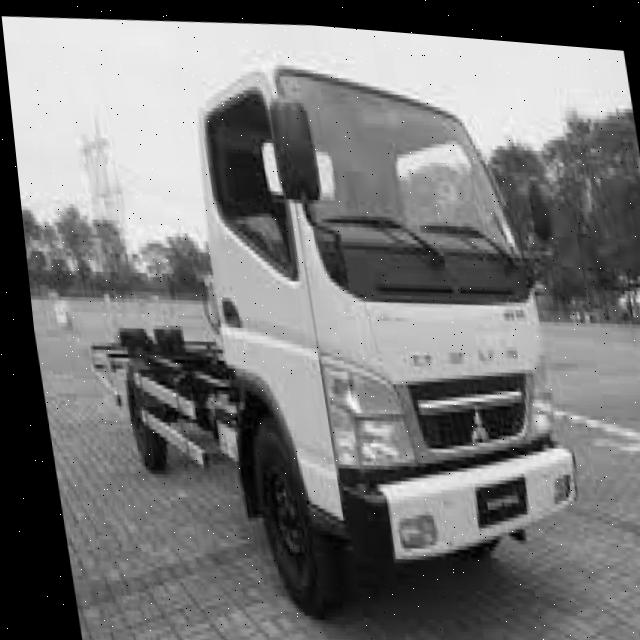truck: (159, 16, 620, 604)
